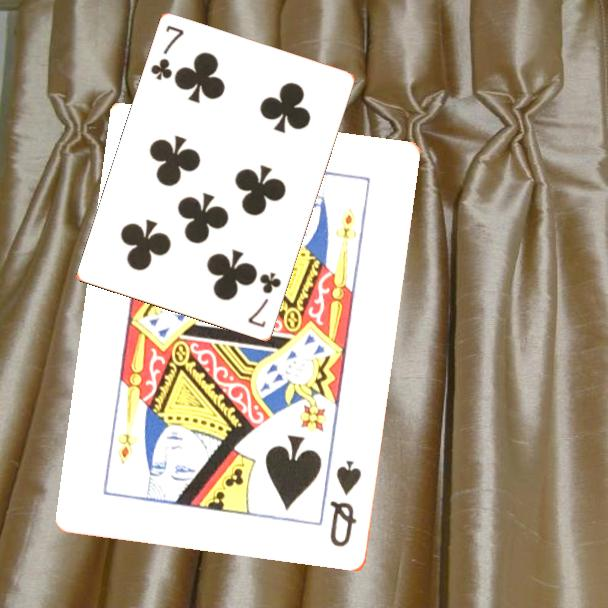c07: (244, 269, 284, 331), (147, 22, 187, 84)
s12: (327, 457, 365, 550)
